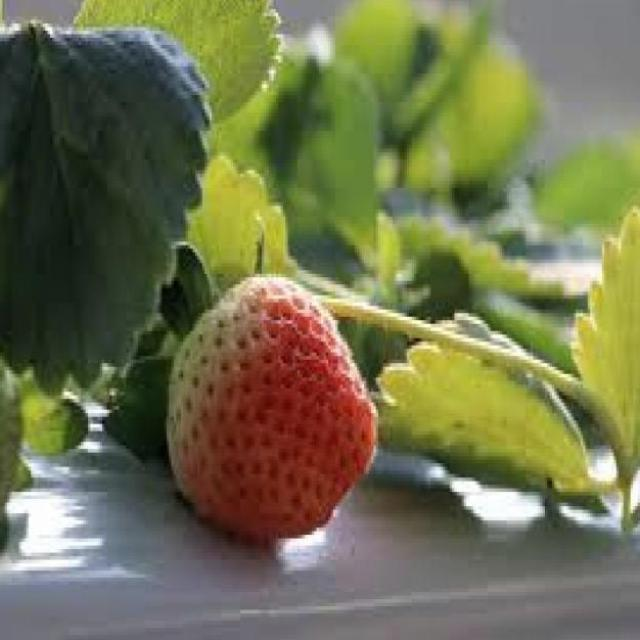Healthy Fruit: (164, 273, 378, 542)
